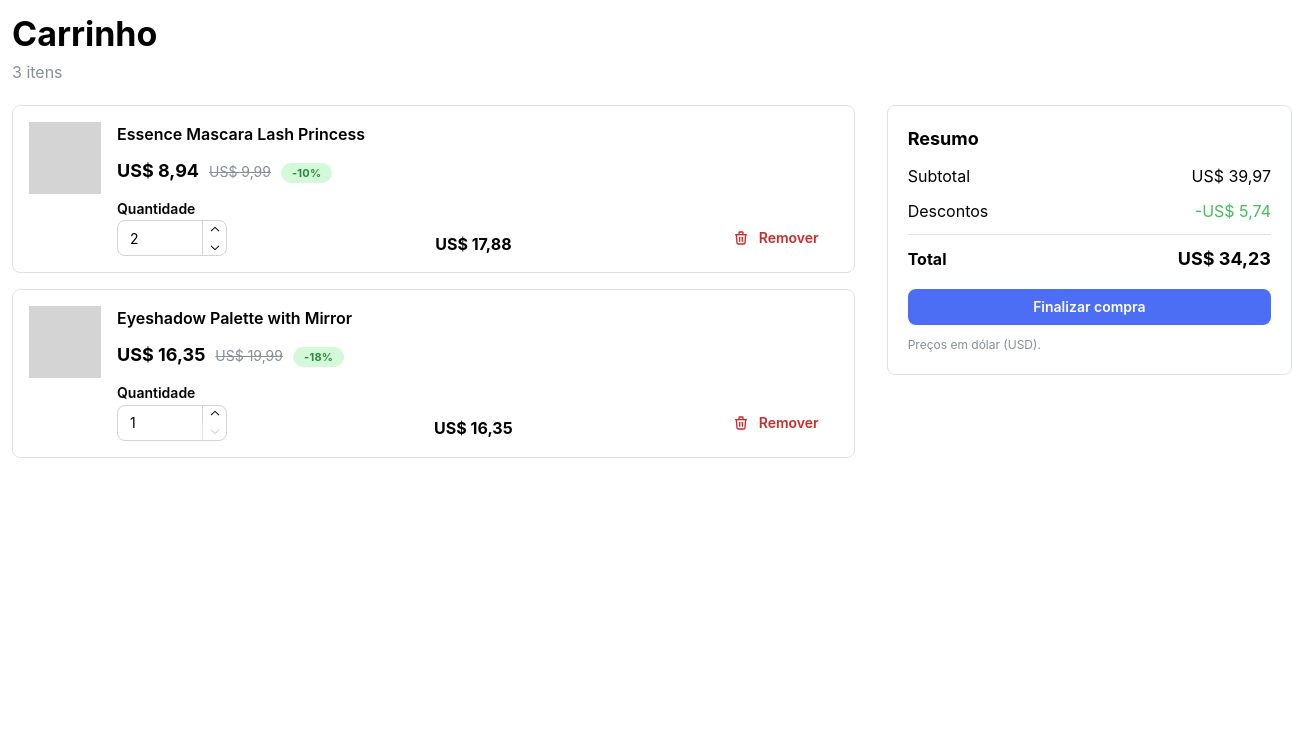
Test case: CartPage: finalizar a compra › com a sessão recusada (401), avisa e o botão volta a levar ao login
This screenshot has width=1292, height=732.
Click the button "Finalizar compra" at [1089, 308], box [908,290,1271,326]
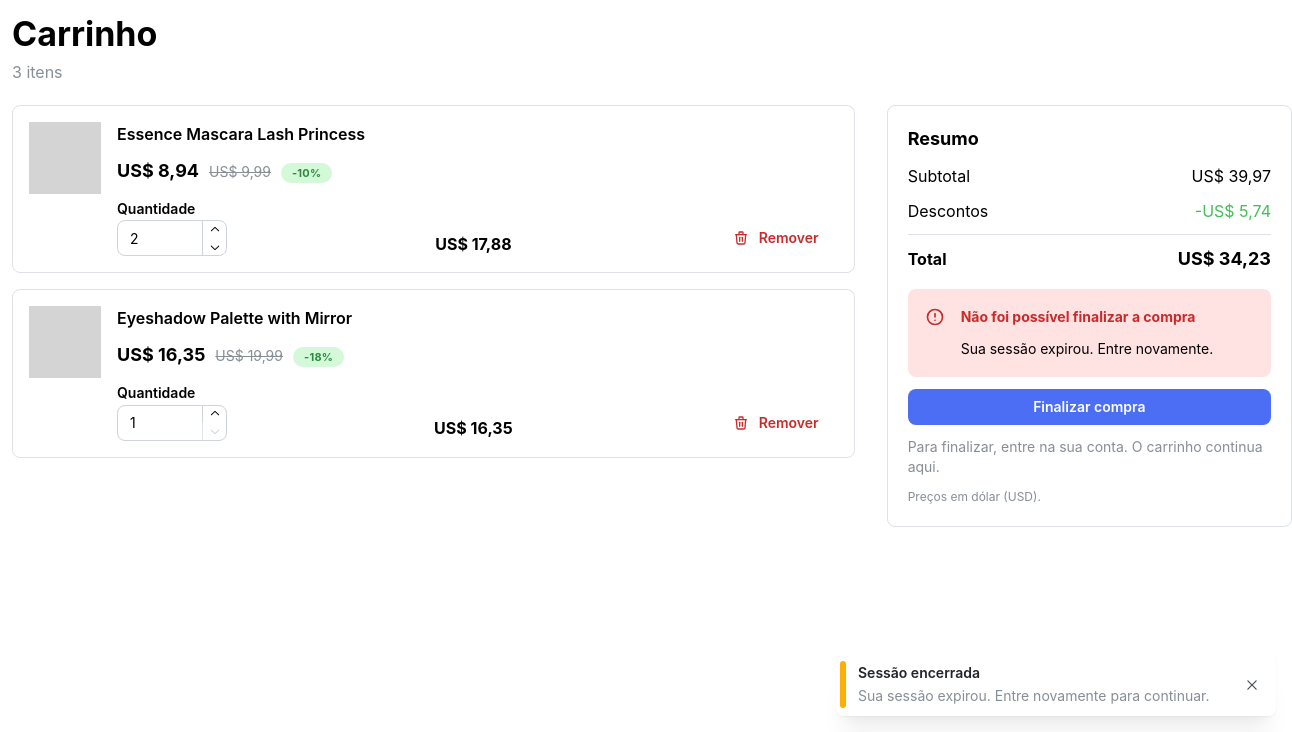
Expected: the text "Sua sessão expirou. Entre novamente." is shown, [961,338,1254,360]
Click the button "Finalizar compra" at [1089, 407], box [908,389,1271,425]
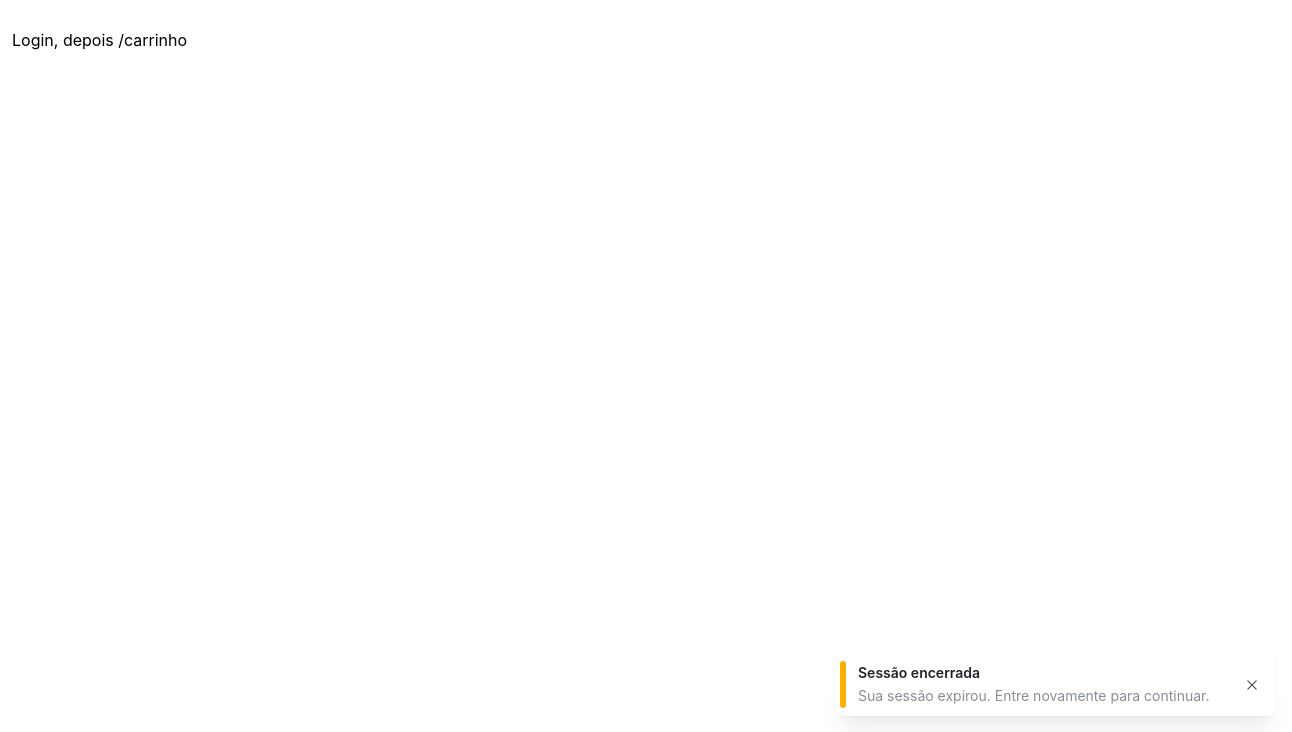
Expected: the text "Login, depois /carrinho" is shown, [12,30,187,50]
